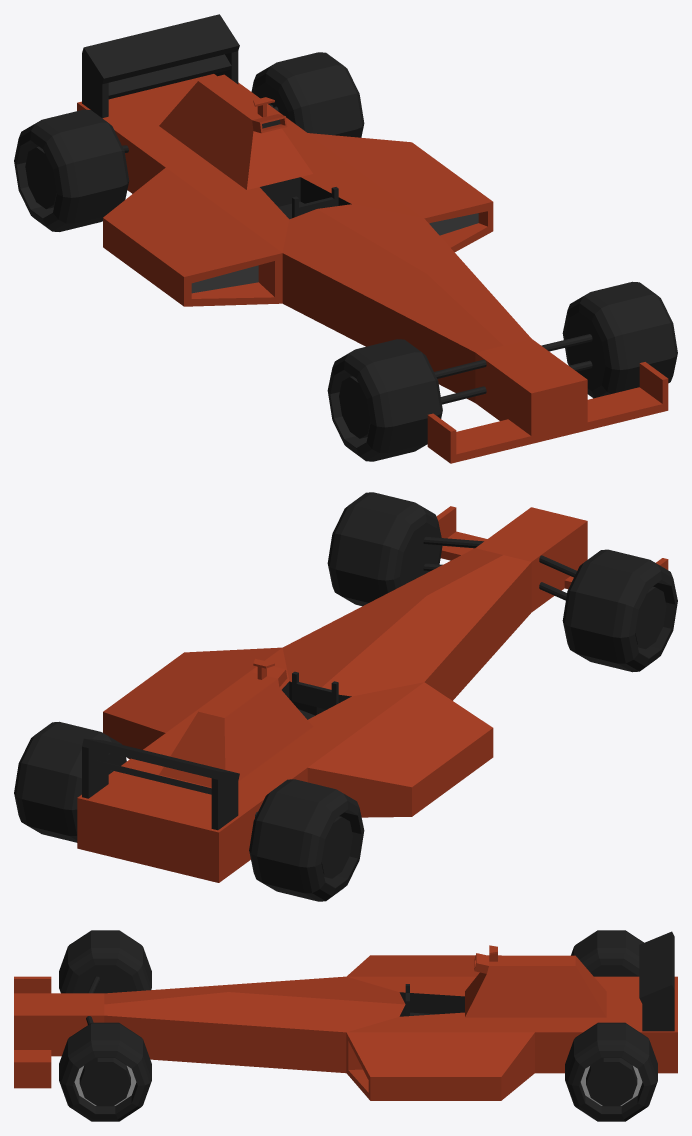
File: low-poly-f1-car.glb
3 views of the same model, one above another, from view 1: azimuth 30°, elevation 25°; view 2: azimuth 150°, elevation 25°; view 3: azimuth 270°, elevation 25° (orthographic). The views are drawn at different scales.
Parts seen in each view (by area): view 1: Cube, back-right-tire, front-right-tire, front-left-tire, back-left-tire; view 2: Cube, back-right-tire, front-right-tire, front-left-tire, back-left-tire; view 3: Cube, back-left-tire, front-left-tire, front-right-tire, back-right-tire.
Boxes of the visible parts, bbox=[...] form: Cube: bbox=[77, 14, 668, 463]; back-right-tire: bbox=[14, 109, 129, 231]; front-right-tire: bbox=[327, 339, 442, 461]; front-left-tire: bbox=[562, 281, 677, 398]; back-left-tire: bbox=[251, 52, 364, 137]; Cube: bbox=[77, 506, 668, 882]; back-right-tire: bbox=[249, 779, 364, 901]; front-right-tire: bbox=[562, 549, 677, 672]; front-left-tire: bbox=[327, 492, 442, 606]; back-left-tire: bbox=[14, 721, 126, 842]; Cube: bbox=[14, 931, 677, 1100]; back-left-tire: bbox=[565, 1022, 657, 1121]; front-left-tire: bbox=[59, 1022, 151, 1121]; front-right-tire: bbox=[59, 930, 151, 993]; back-right-tire: bbox=[571, 930, 643, 976].
Size of the model in its own units: 4.56 by 2.04 by 10.51.
1 material, 1 textured.
